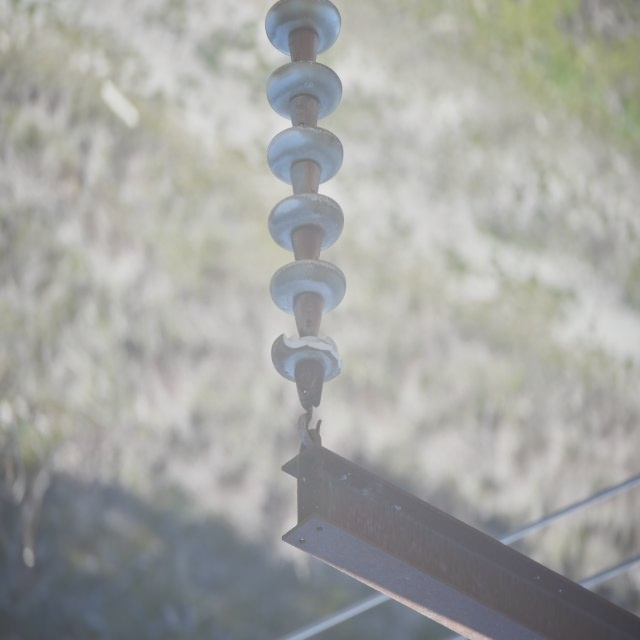broken: (280, 325, 343, 375)
insulator: (262, 1, 344, 380)
